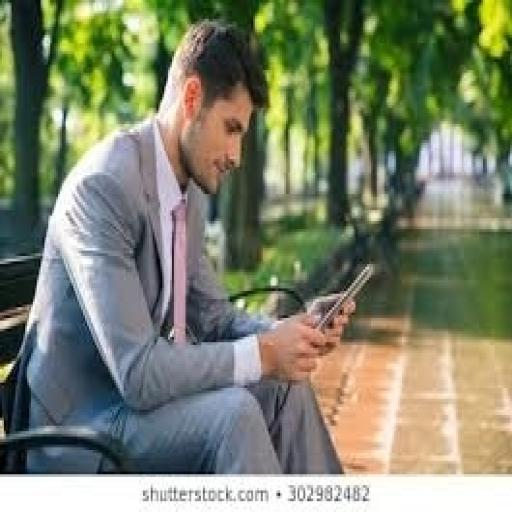sitting: (6, 16, 357, 472)
